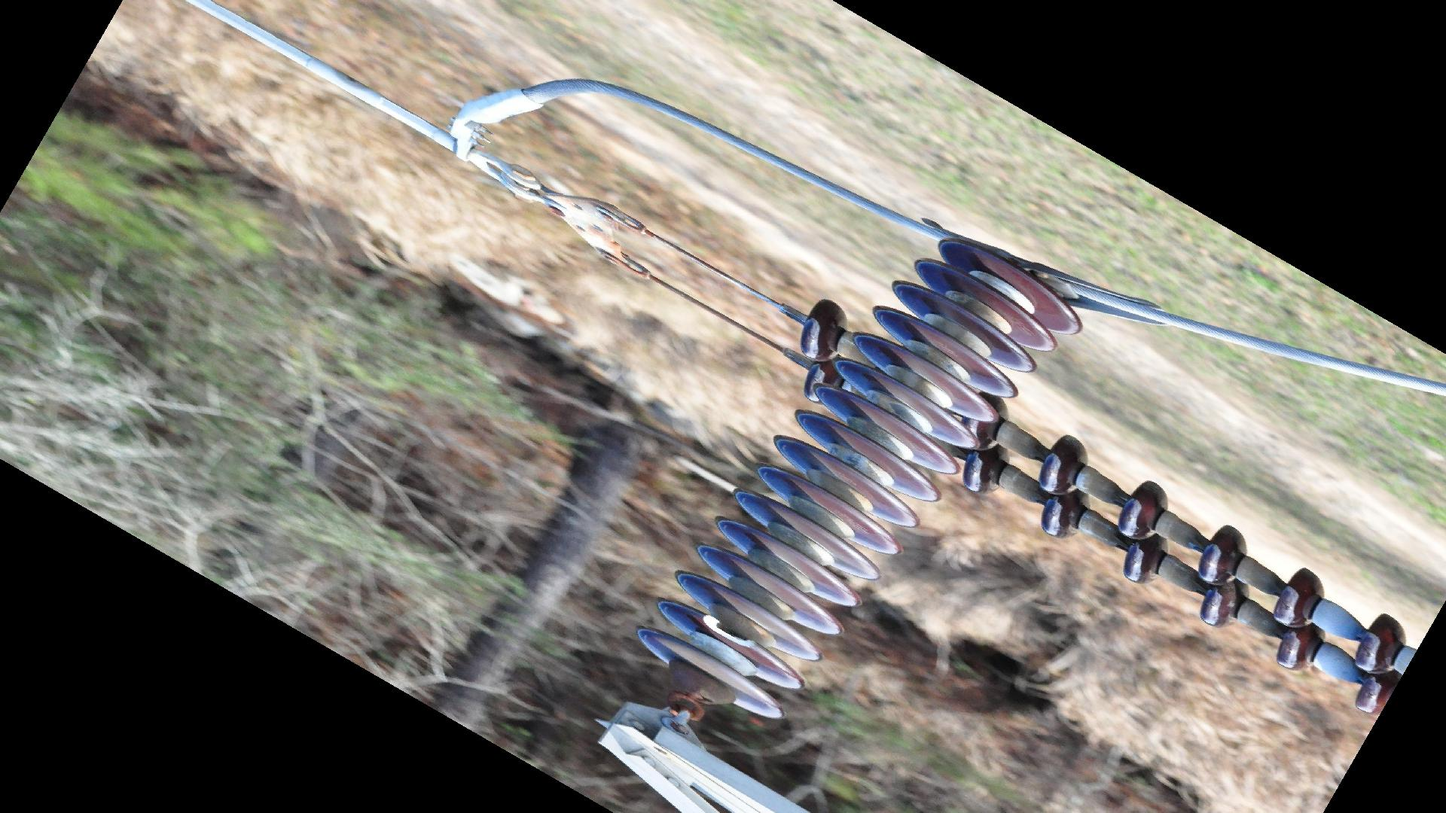insulator: (632, 230, 1089, 729), (957, 425, 1408, 720), (788, 294, 854, 407)
insulator_breakage: (692, 607, 768, 656)
